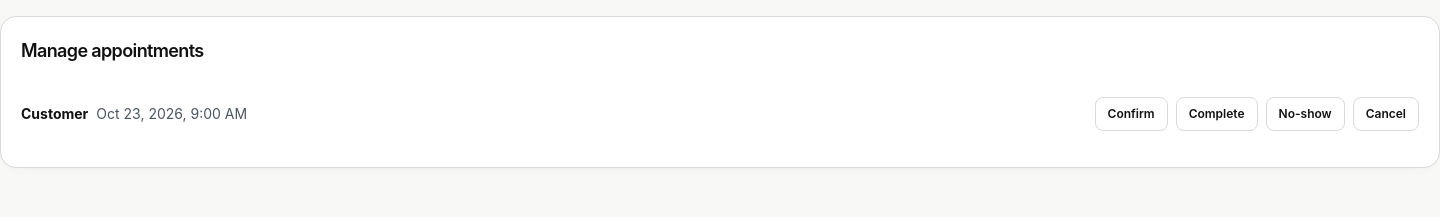
connects pending confirmation to the tenant-scoped action and refreshes the dashboard
What coordinates should you click on to do the following:
click the button "Confirm"
I would click on:
 (1131, 114)
Its box is [1095, 97, 1168, 131].
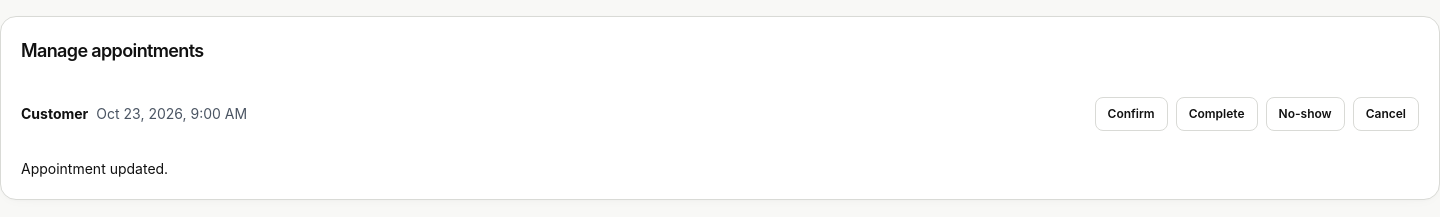
Expected: the message reads "Appointment updated.", [21, 160, 168, 177]
